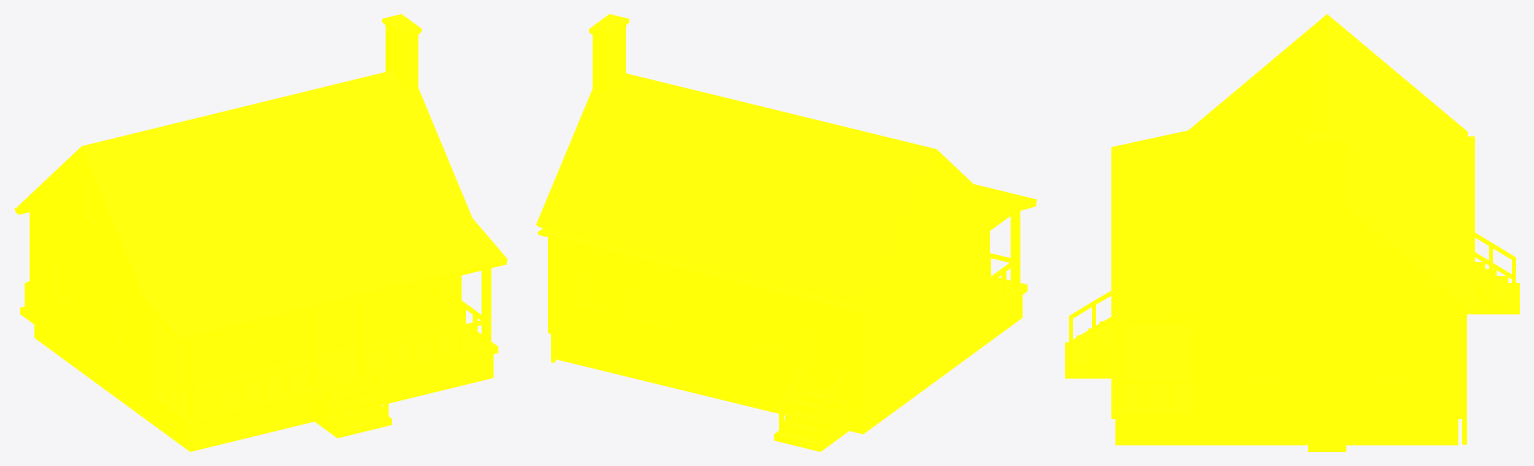
The model's file is building-house-family-small.glb.
3 renders of one model, left to right at view 1: azimuth 30°, elevation 25°; view 2: azimuth 150°, elevation 25°; view 3: azimuth 270°, elevation 25°, orthographic. The views are drawn at different scales.
Visible parts, largest first — view 1: building-house-family-small; view 2: building-house-family-small; view 3: building-house-family-small.
Boxes of the visible parts, x1,y1,x2,y2 form: building-house-family-small: [14, 14, 507, 451]; building-house-family-small: [536, 14, 1036, 451]; building-house-family-small: [1065, 14, 1519, 451].
Size of the model in its own units: 10.87 by 8.9 by 11.8.
1 material, 1 textured.
